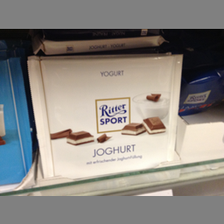chocolate: (28, 54, 182, 181)
